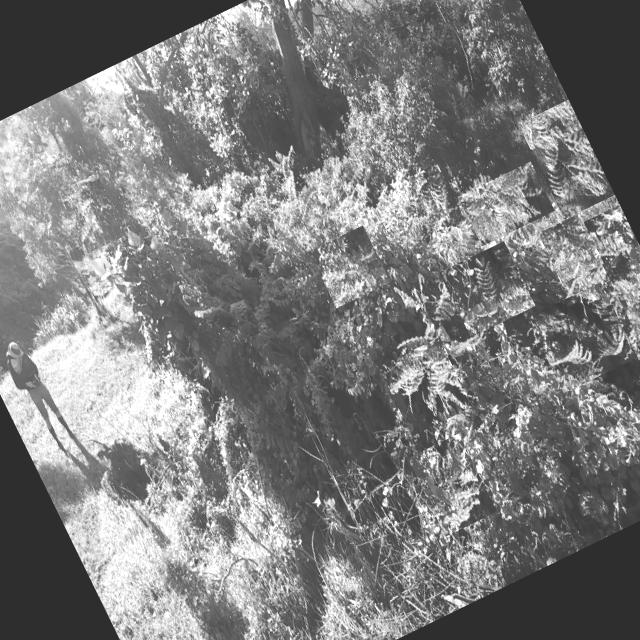Mysore-Thorn-Weed: (364, 252, 492, 390), (526, 282, 638, 393), (518, 98, 614, 218), (258, 138, 340, 252), (581, 204, 640, 362), (440, 240, 536, 336), (378, 337, 472, 435), (408, 433, 497, 536), (458, 160, 554, 246), (309, 225, 390, 308), (316, 146, 386, 234), (58, 172, 127, 253), (538, 212, 604, 283), (409, 163, 464, 232)
